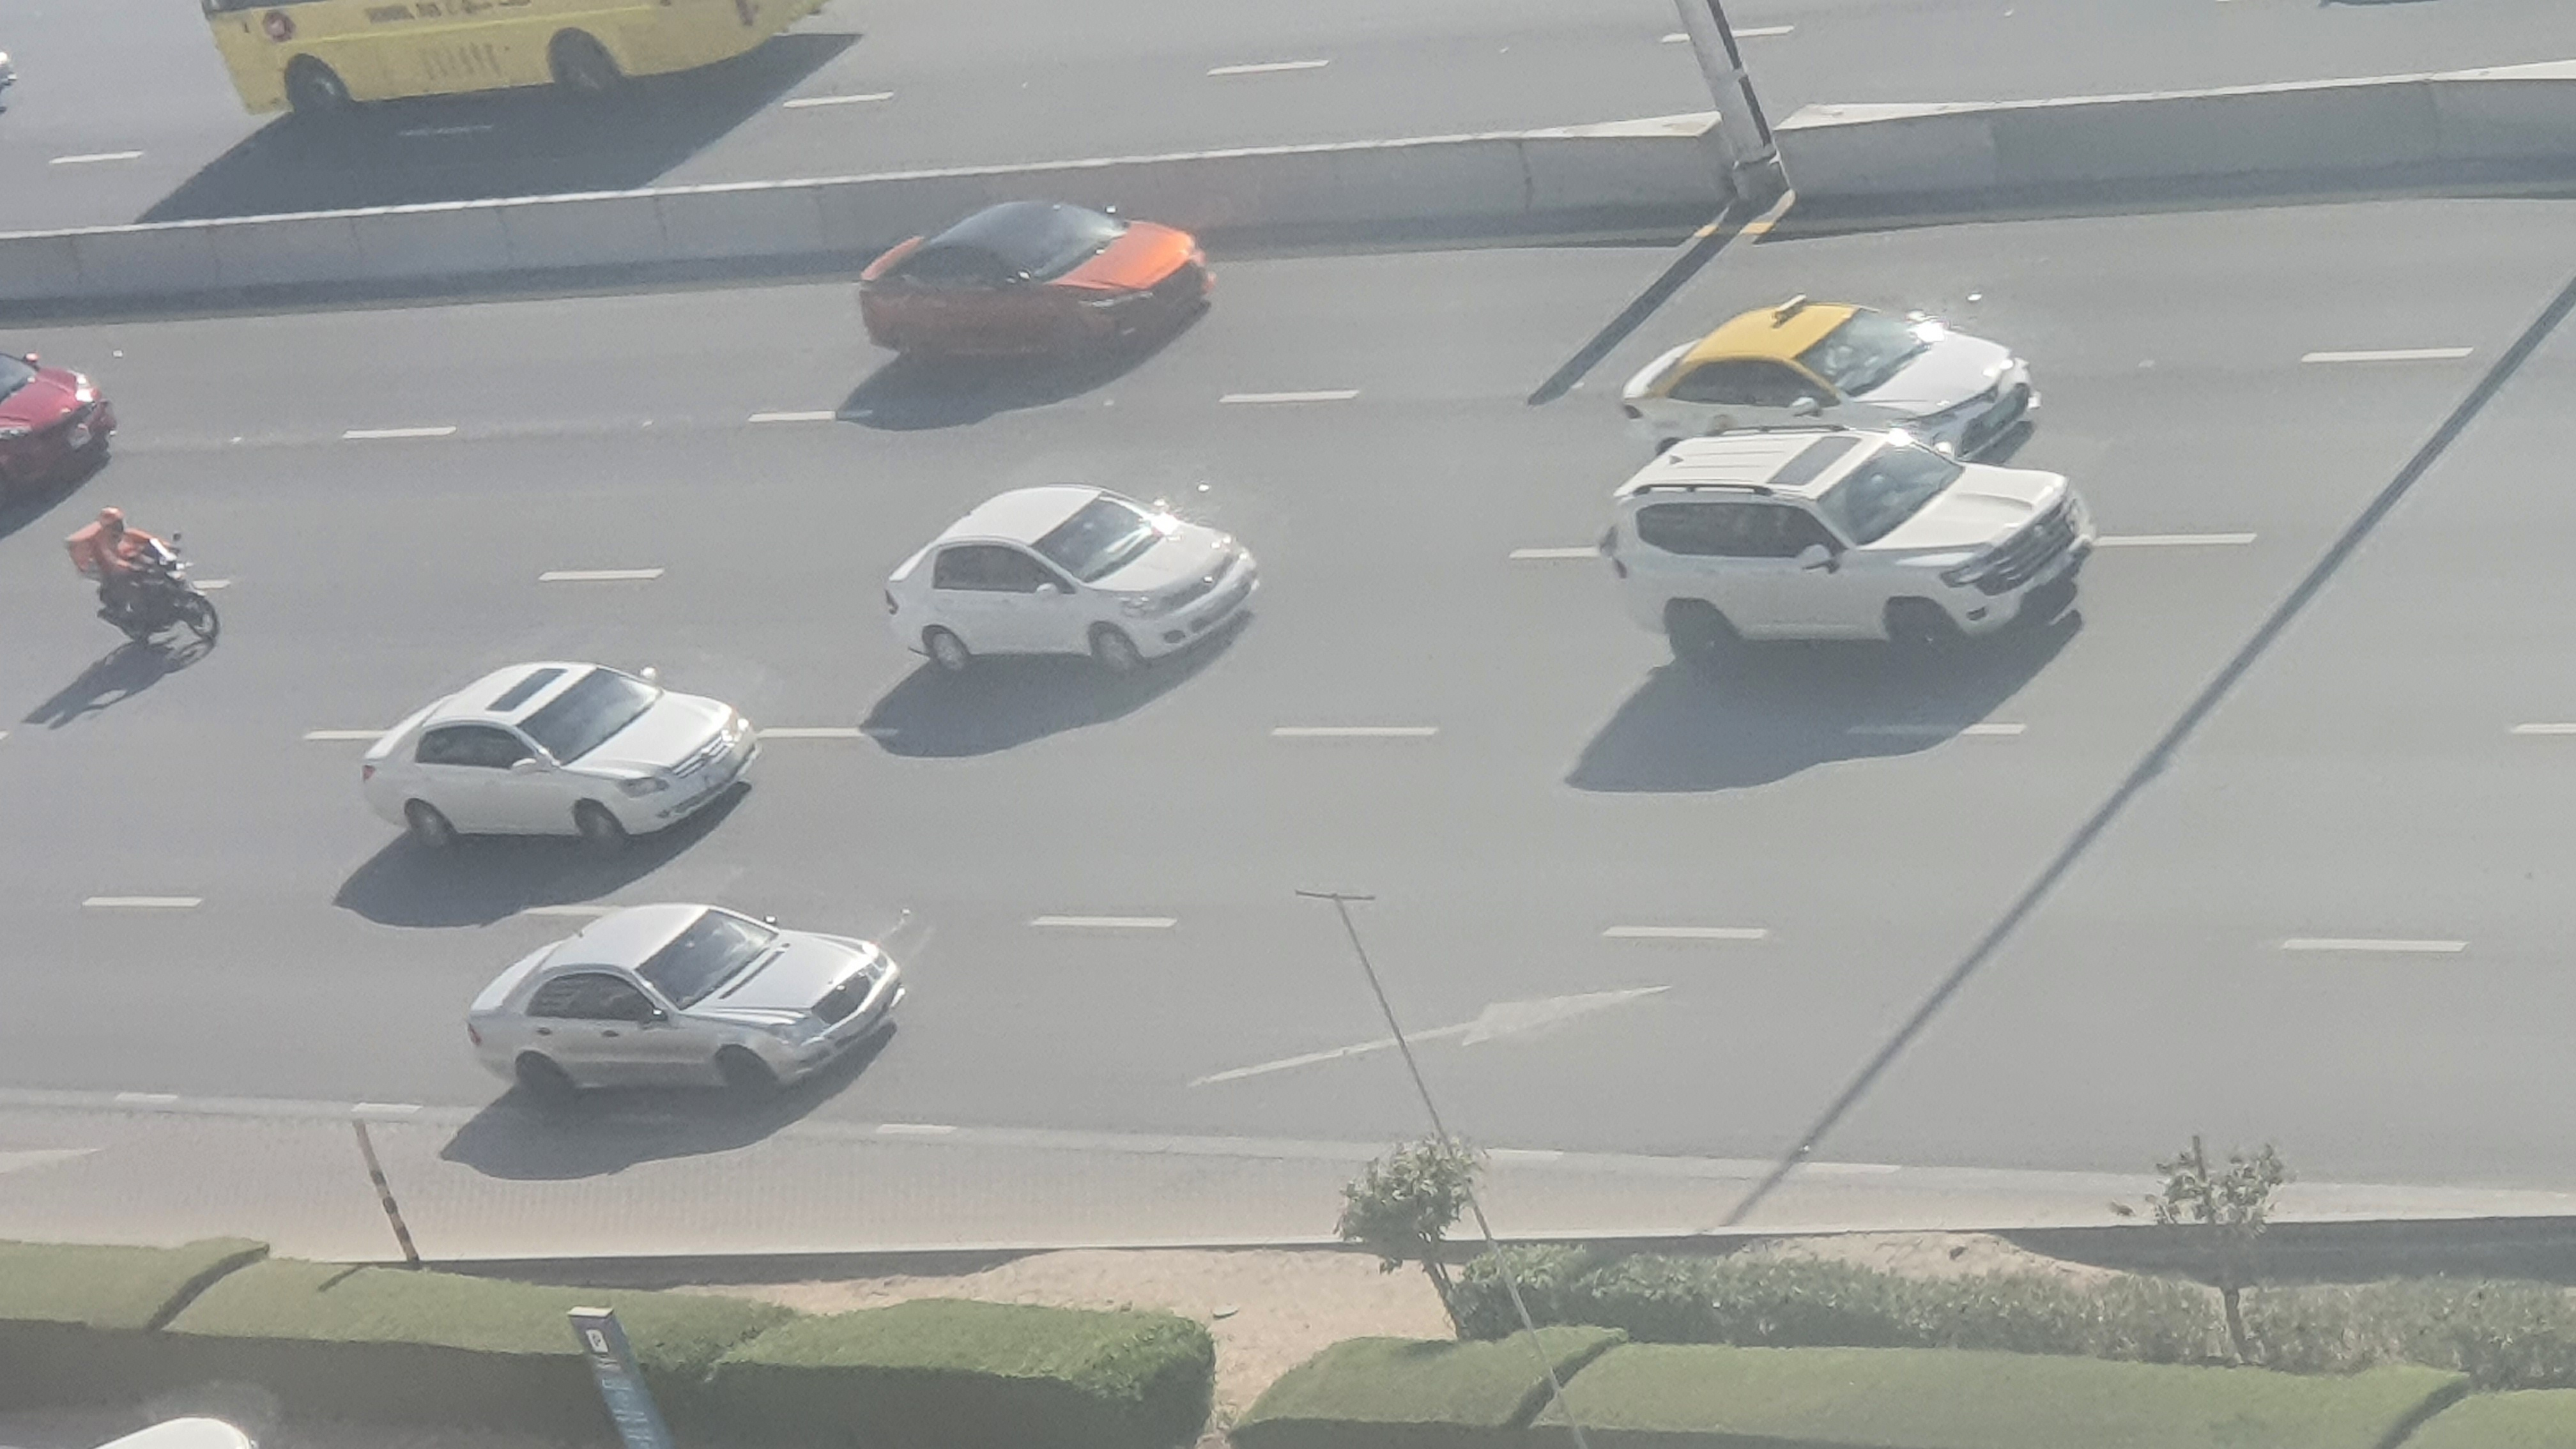NotSunroof: (453, 913, 902, 1113), (872, 488, 1274, 690), (1624, 306, 2036, 439)
Sunroof: (1606, 423, 2095, 683), (354, 660, 763, 865), (858, 189, 1226, 384)
